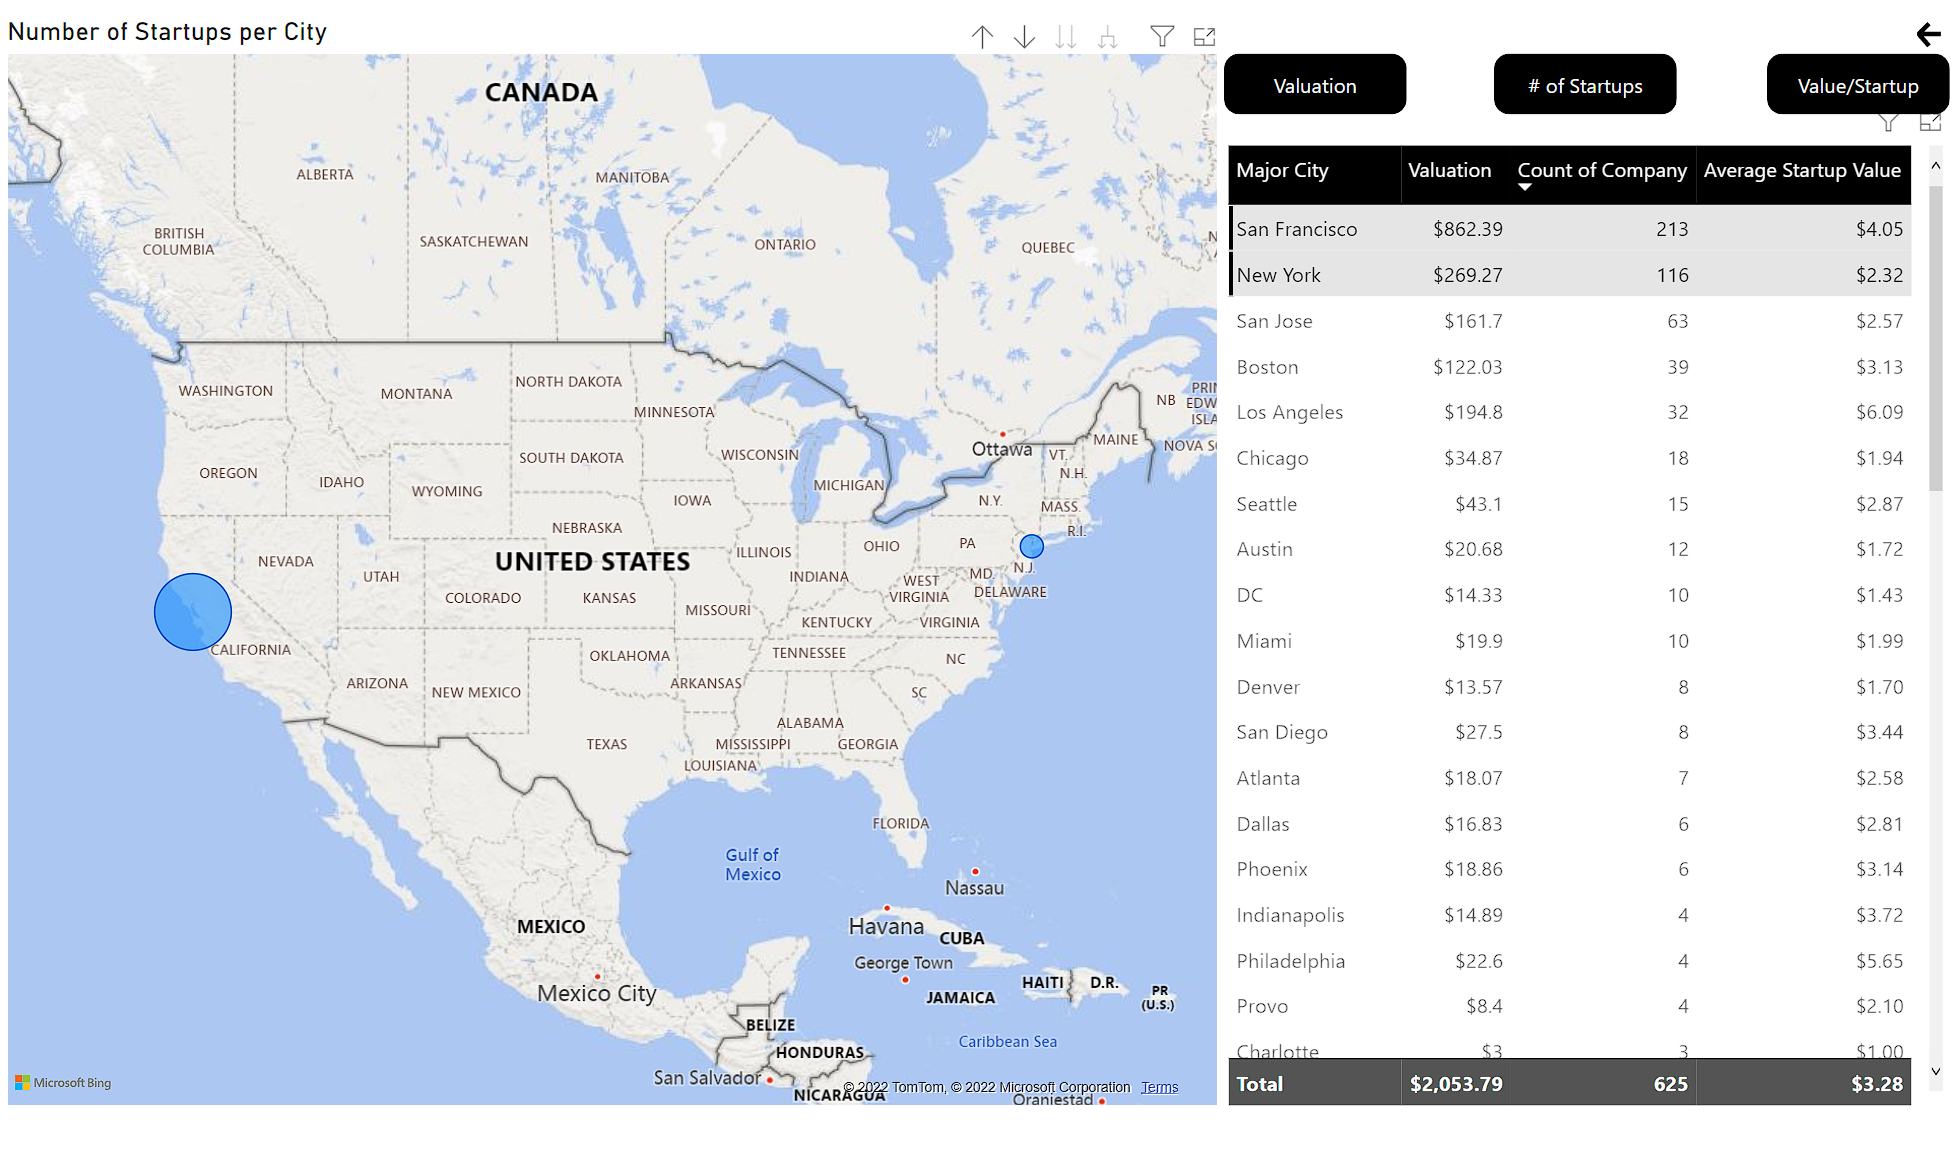

The page's visual inventory and layout, read from the dashboard file:
{"tool":"powerbi","page":{"name":"Cities","canvas":[1280,720],"ordinal":2},"visuals":[{"type":"map","title":"Number of Startups per City","fields":{"Category":["Major Cities Lookup.State","Startups.Major City Location"],"Size":["CountNonNull(Startups.Company)"]},"box":[0,0,803.6,719.8],"z":0},{"type":"tableEx","title":"Table","fields":{"Values":["Major Cities Lookup.Major City","Sum(Startups.Valuation)","Startups.Company","Major Cities Lookup.Average Startup Value"]},"box":[800.3,79.8,479.7,640],"z":1000},{"type":"actionButton","box":[803.8,24.7,120,40.1],"z":4000},{"type":"actionButton","box":[980.2,24.7,120.2,40.1],"z":5000},{"type":"actionButton","box":[1159.8,24.7,120.2,40.1],"z":6000},{"type":"actionButton","box":[1254.6,0,25.3,24.7],"z":7000}]}

Visuals, with their boxes in screenshot pixels (x1, y1, x2, y2):
"Number of Startups per City" map: bbox=(5, 15, 1215, 1099)
"Table" tableEx: bbox=(1210, 135, 1932, 1099)
actionButton: bbox=(1215, 52, 1396, 113)
actionButton: bbox=(1481, 52, 1662, 113)
actionButton: bbox=(1751, 52, 1932, 113)
actionButton: bbox=(1894, 15, 1932, 52)
